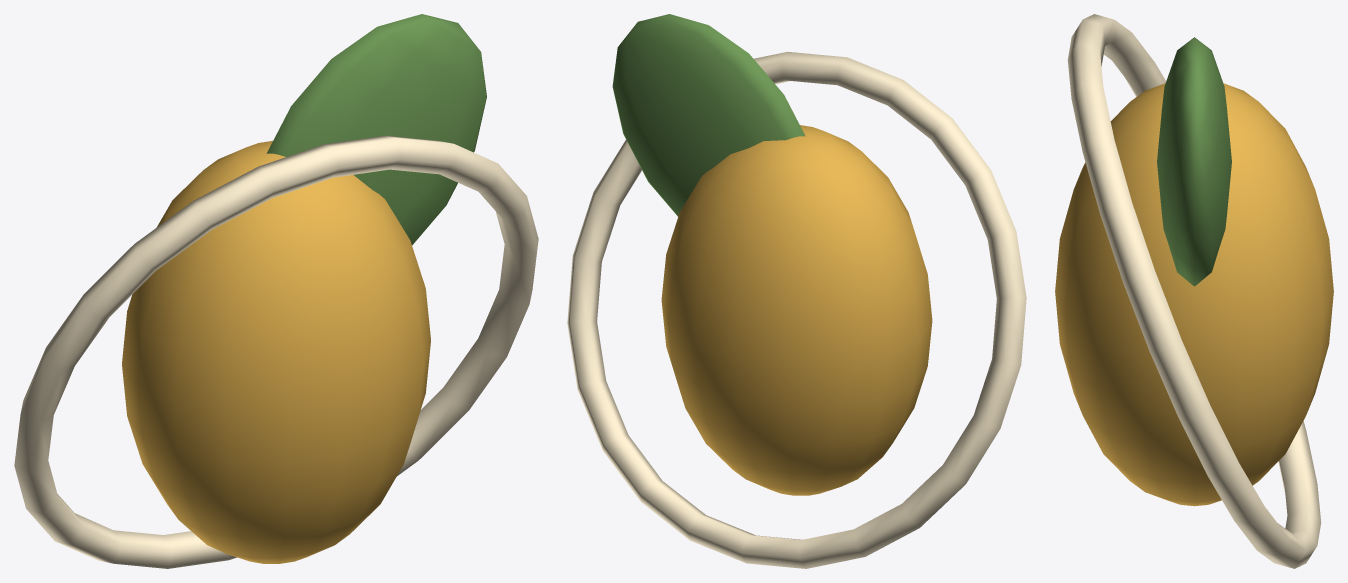
File: word-seed.glb
3 views of the same model, side by side, from view 1: azimuth 30°, elevation 25°; view 2: azimuth 150°, elevation 25°; view 3: azimuth 270°, elevation 25° (orthographic). The views are drawn at different scales.
Visible parts, largest first — view 1: word-seed; view 2: word-seed; view 3: word-seed.
Boxes of the visible parts, bbox=[...] form: word-seed: bbox=[14, 14, 538, 568]; word-seed: bbox=[567, 14, 1026, 568]; word-seed: bbox=[1055, 14, 1333, 568].
Size of the model in its own units: 0.554 by 0.5682 by 0.26.
